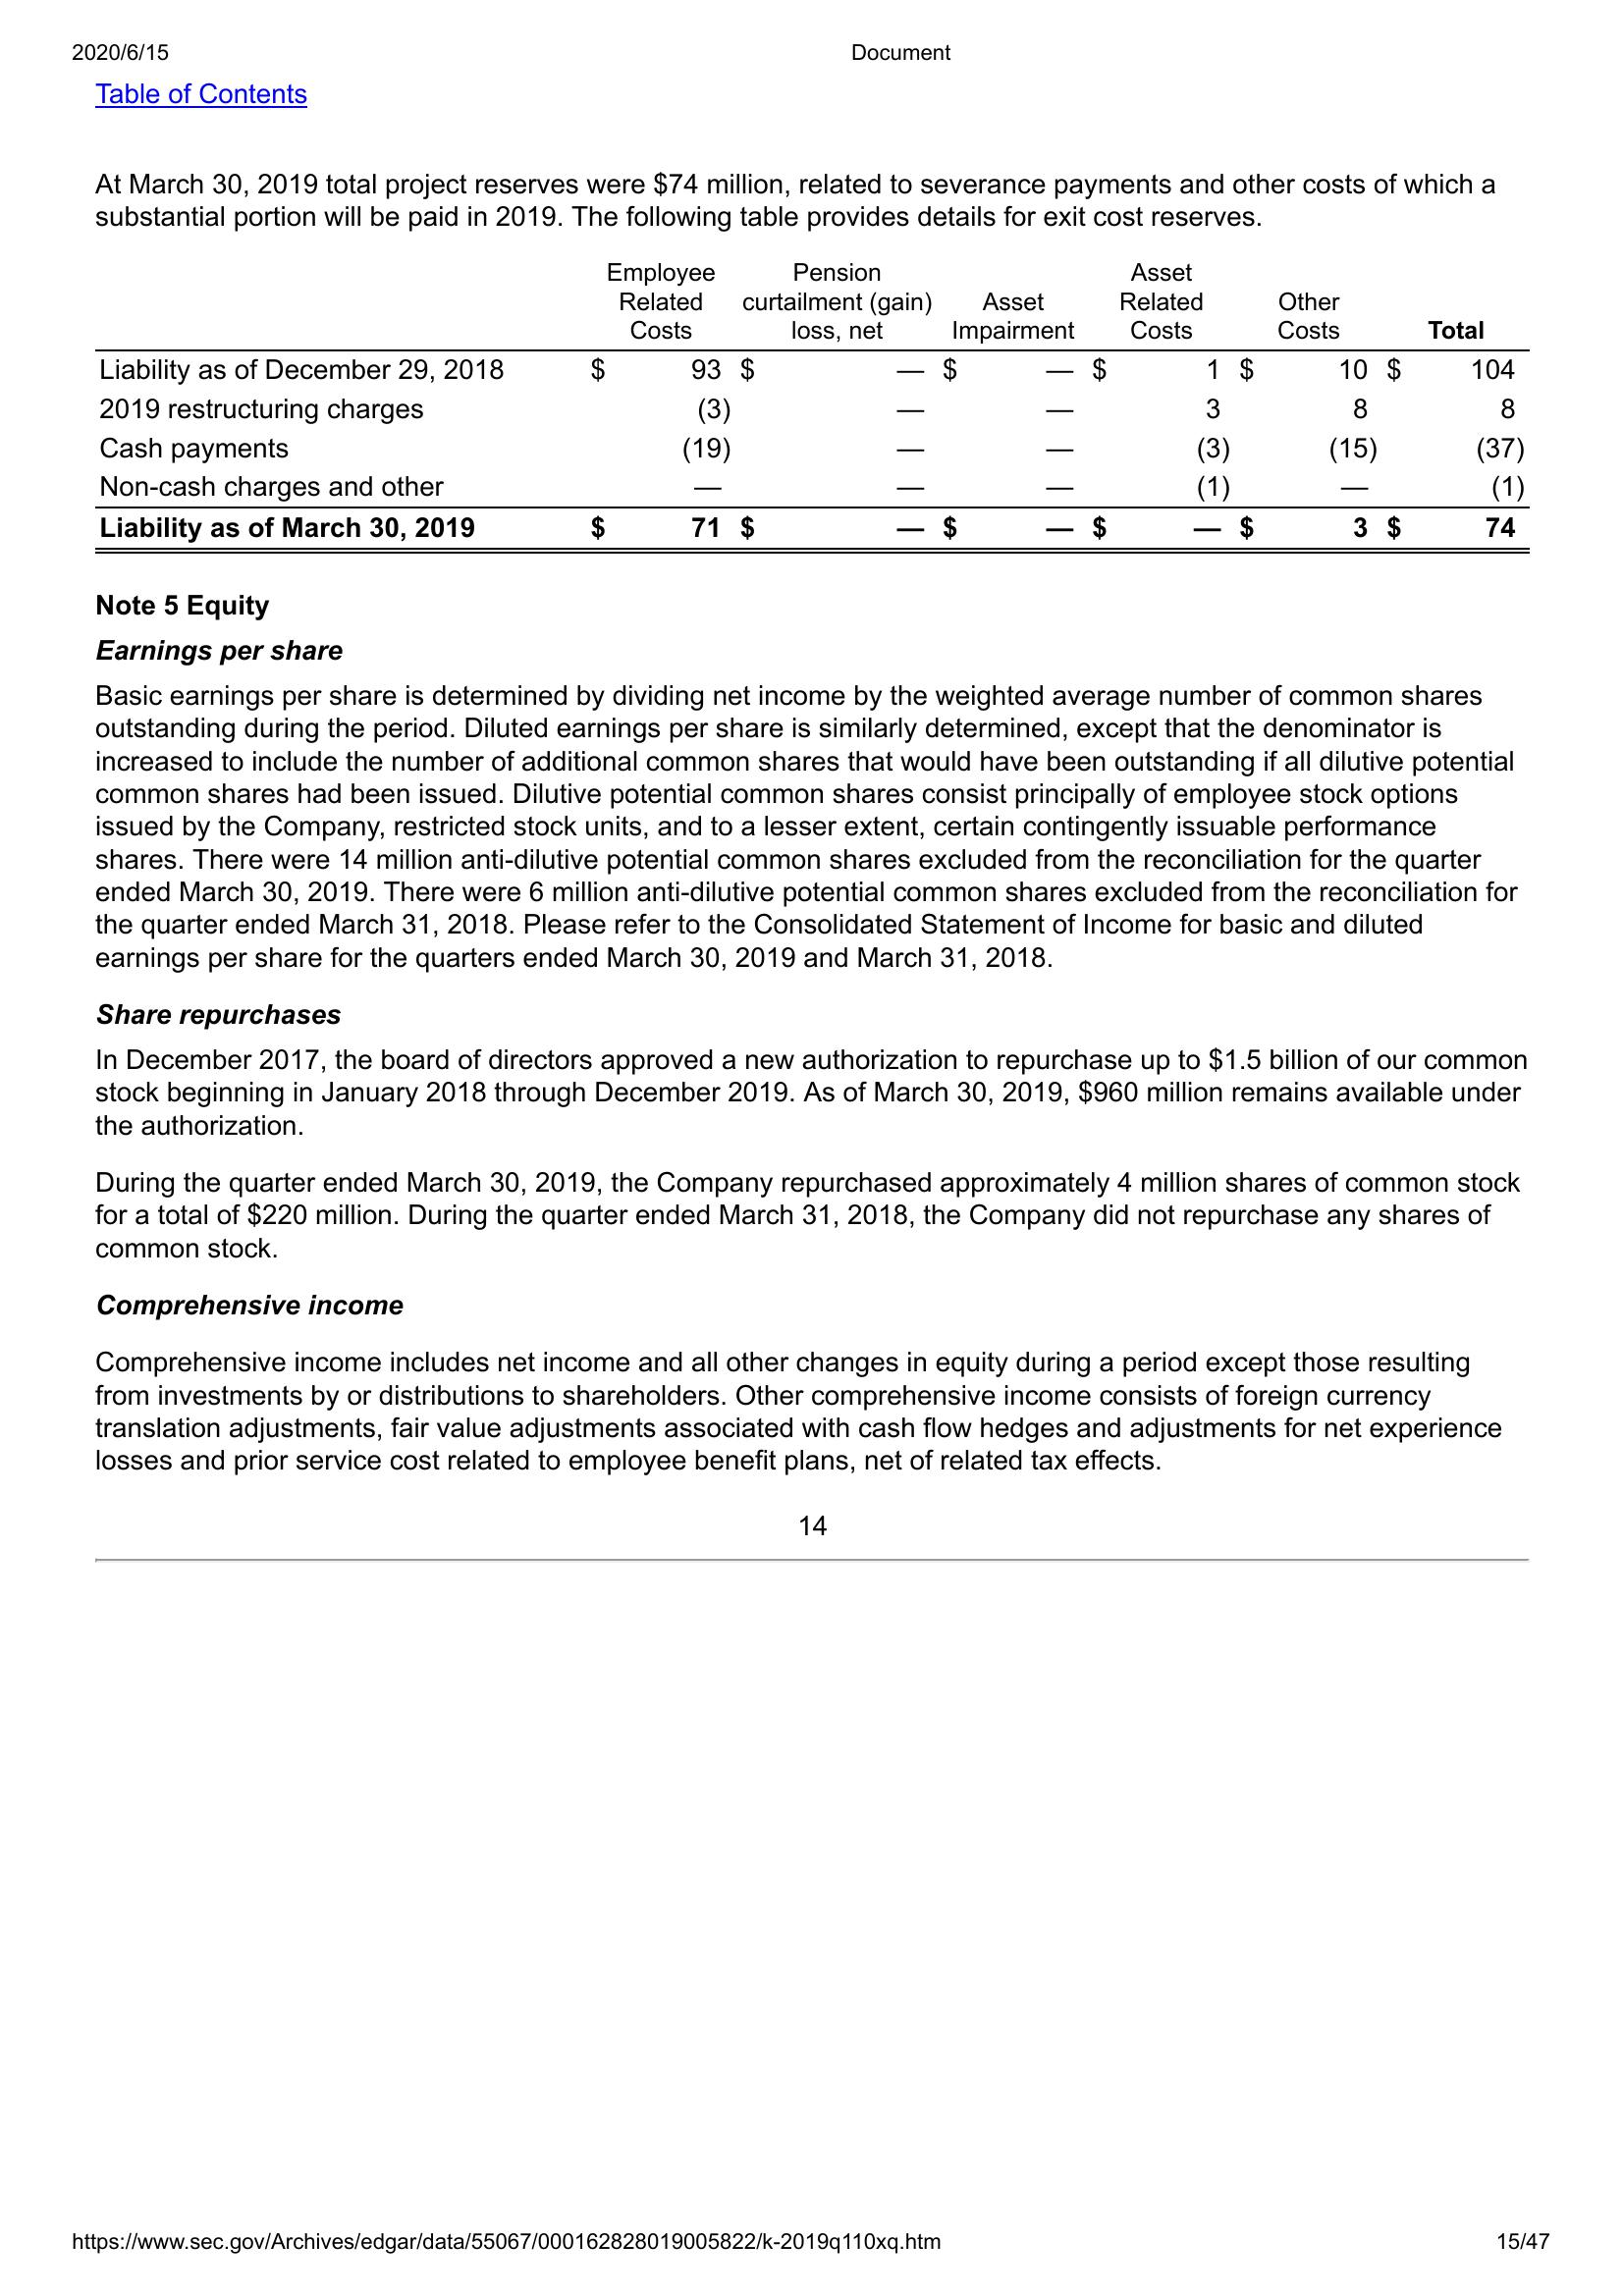table: (90, 258, 1539, 565)
